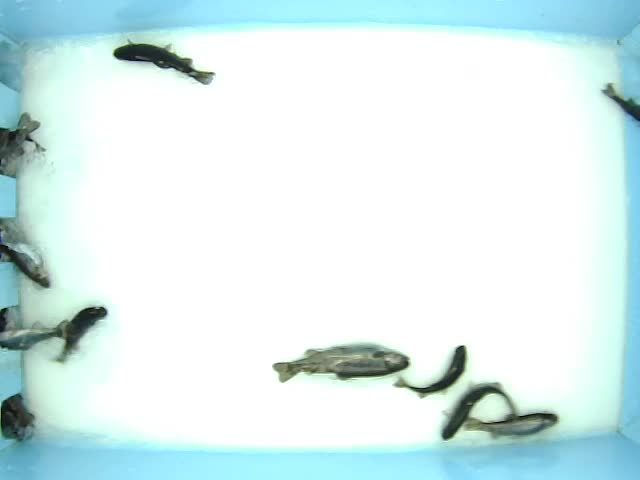fish: (270, 342, 411, 387), (113, 38, 217, 88), (439, 379, 515, 441), (390, 342, 469, 397), (53, 302, 109, 363), (463, 410, 560, 440)
